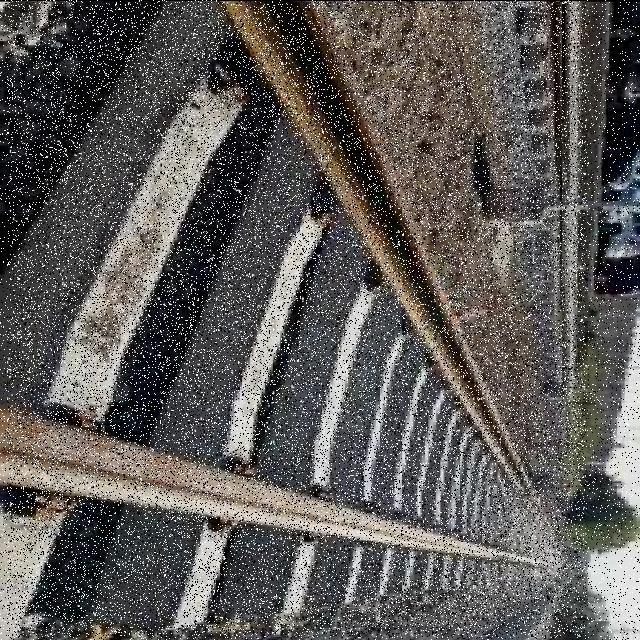rail: (8, 1, 586, 636)
